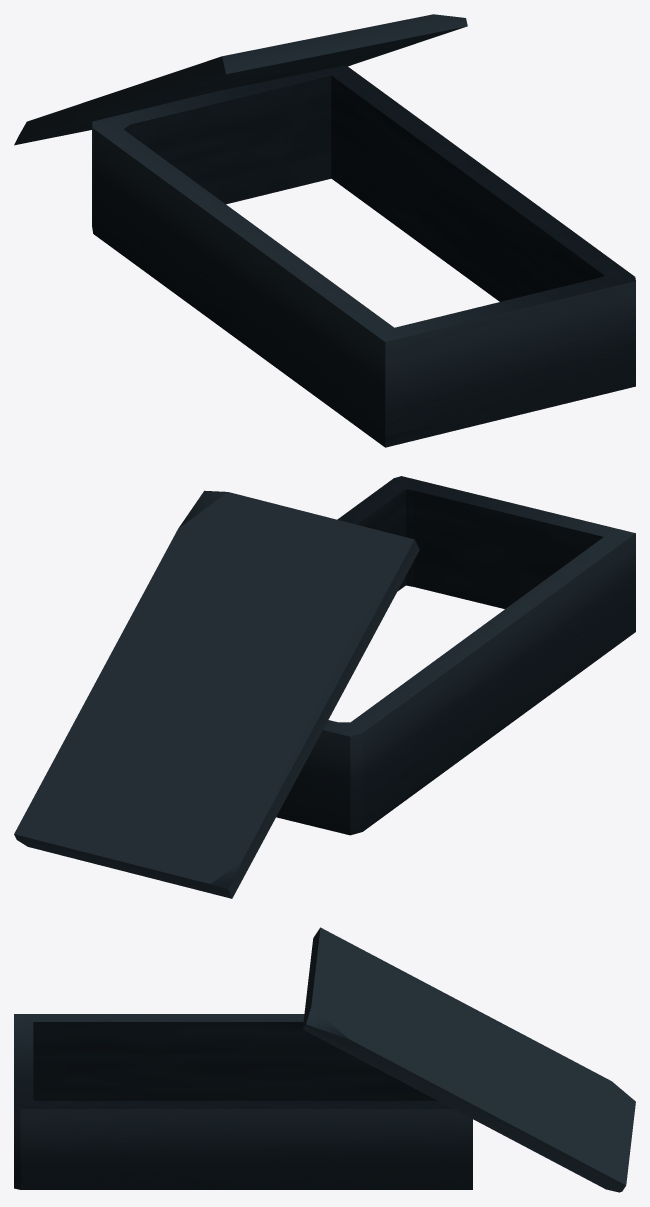
The model's file is F_Tomb_3.fbx.
The picture shows the model from 3 angles, top to bottom: view 1: azimuth 30°, elevation 25°; view 2: azimuth 150°, elevation 25°; view 3: azimuth 270°, elevation 25°; orthographic projection. The views are drawn at different scales.
Visible parts, largest first — view 1: F_Tomb_3_jump; view 2: F_Tomb_3_jump; view 3: F_Tomb_3_jump.
Boxes of the visible parts, x1=… form: F_Tomb_3_jump: x1=14, y1=14, x2=635, y2=447; F_Tomb_3_jump: x1=14, y1=476, x2=635, y2=898; F_Tomb_3_jump: x1=14, y1=927, x2=635, y2=1192.
Size of the model in its own units: 5.91 by 1.92 by 2.28.
1 material, 1 textured.
